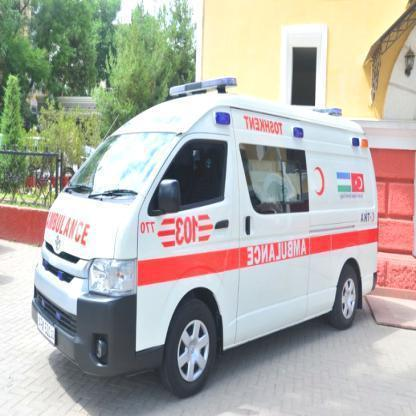Ambulance: (244, 236, 320, 266)
